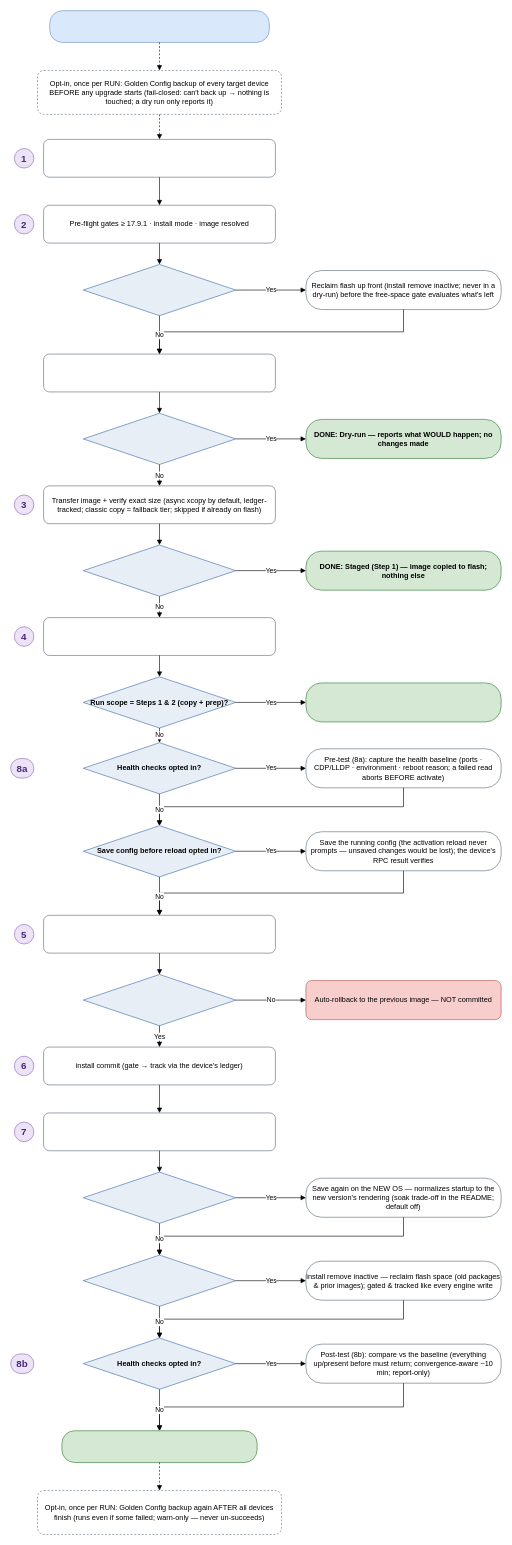
Image size: 512x1545. Some labels were removed from this diagram. Each missing label, with the centre of its shape:
"Activate (non-ISSU) → reload (gate → track via the device's ledger)" belongs at (159,934).
"Booted the target & came back healthy?" belongs at (159,1000).
"Clean device first opted in?" belongs at (159,290).
"Connect & authenticate (RESTCONF over HTTPS, creds from Nautobot Secrets)" belongs at (159,158).
"DONE: Staged (Steps 1 & 2) — added & marked for activation; not reloaded" belongs at (403,702).
"DONE: Upgraded & committed ✓" belongs at (159,1446).
"Dry-run?" belongs at (159,439).
"Free-space gate (on the cleaned flash when cleaning ran)" belongs at (159,372).
"install add — extract & stage the image (gate → track via the device's ledger)" belongs at (159,636).
"Remove inactive opted in?" belongs at (159,1280).
"Run scope = Step 1 (copy) only?" belongs at (159,570).
"Save config after commit opted in?" belongs at (159,1197).
"Select devices and/or dynamic groups + target version (Nautobot → Jobs)" belongs at (159,26).
"Sync Nautobot software version (the device record now shows the new OS)" belongs at (159,1131).
